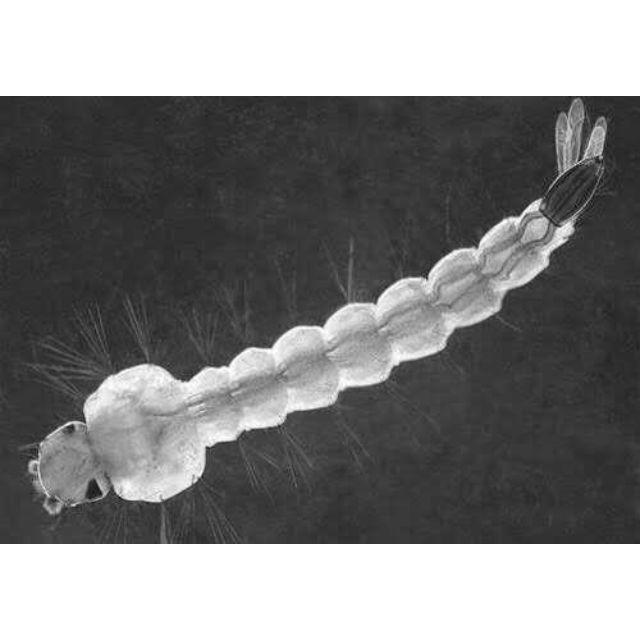larvas: (33, 103, 600, 515)
